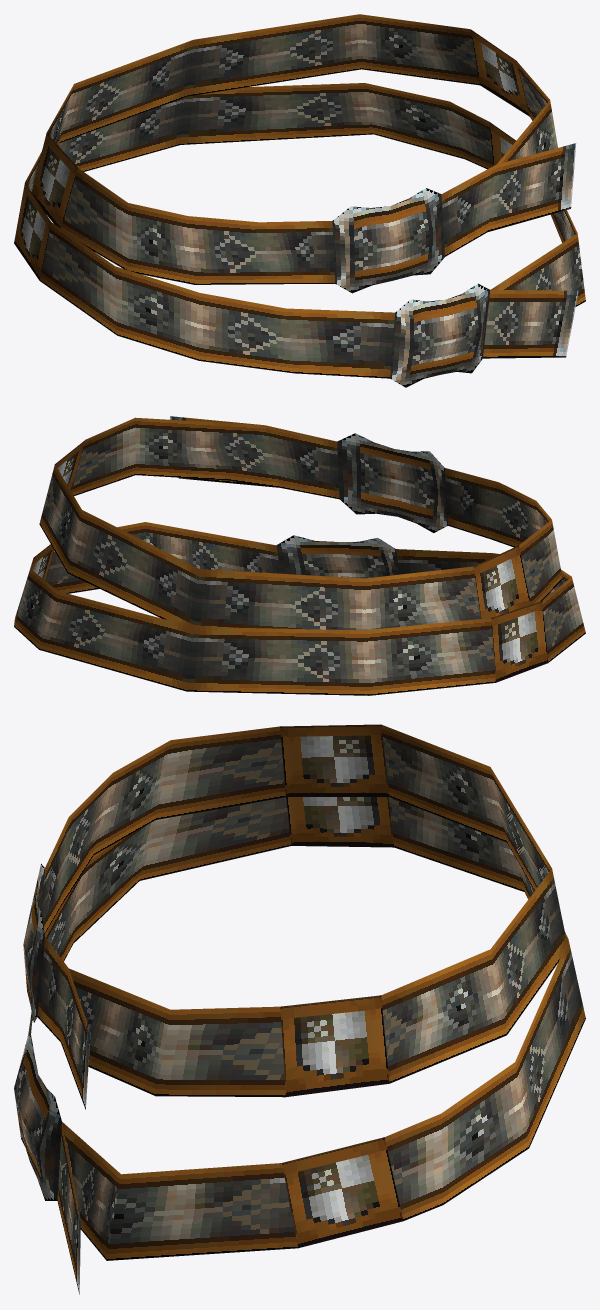
Rendered from m_wst197.glb.
3 renders of one model, top to bottom at view 1: azimuth 30°, elevation 25°; view 2: azimuth 150°, elevation 25°; view 3: azimuth 270°, elevation 25°, orthographic. The views are drawn at different scales.
Bounding box in the file's own units: 38.34 × 17.19 × 28.32.
1 material, 1 textured.
